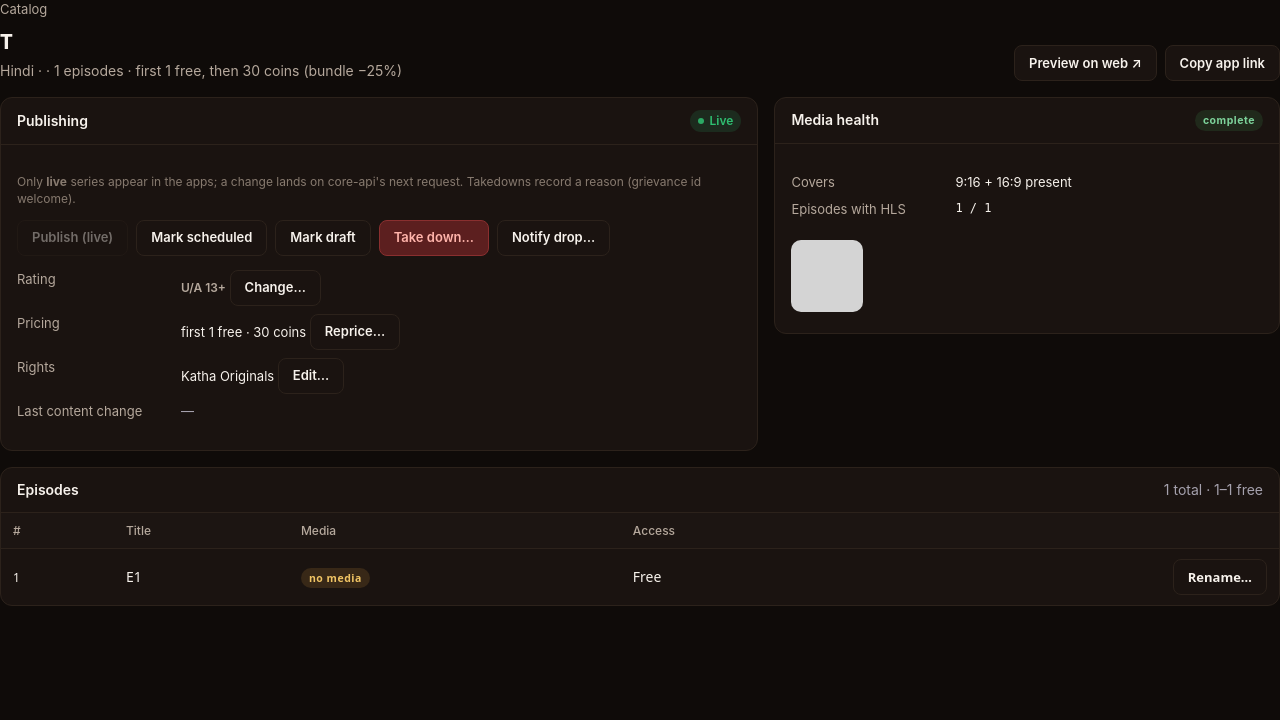
Test: final handler closures › CatalogDetail modals close on Escape
Click the button "Take down…" at (434,238), box [379,220,489,256]
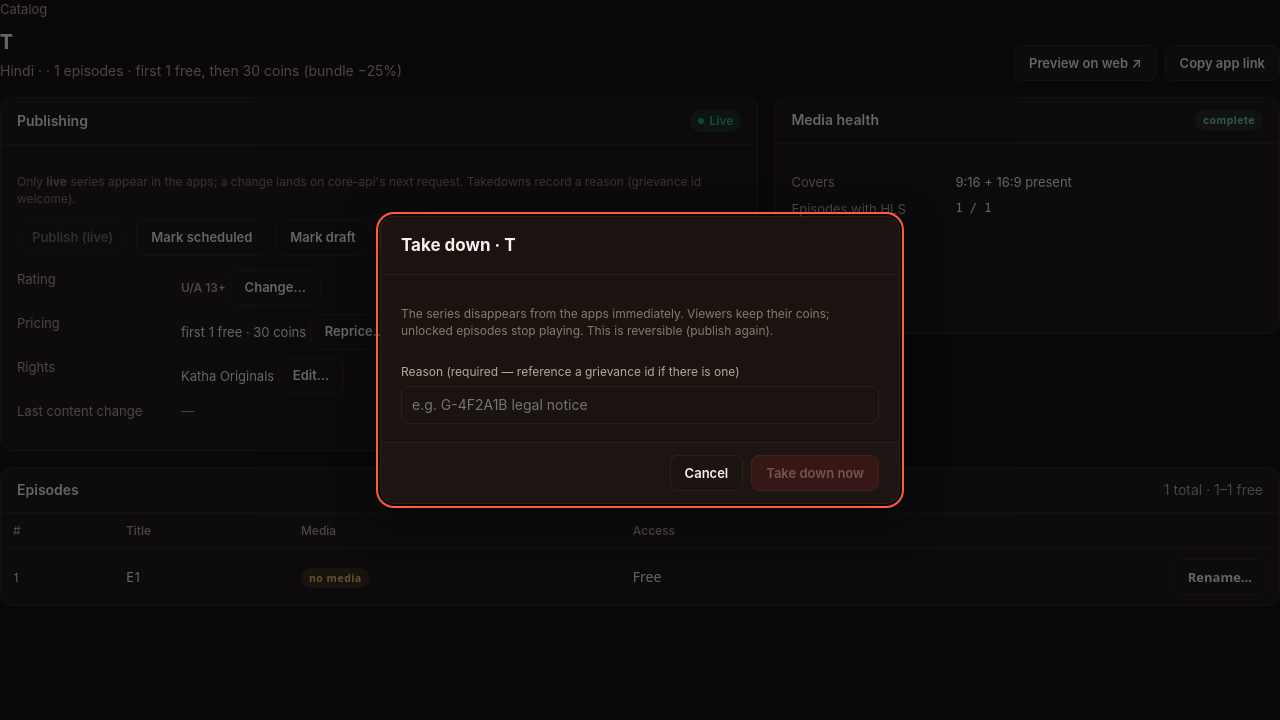
Check: the dialog is shown, box [380,216,900,504]
Press Escape
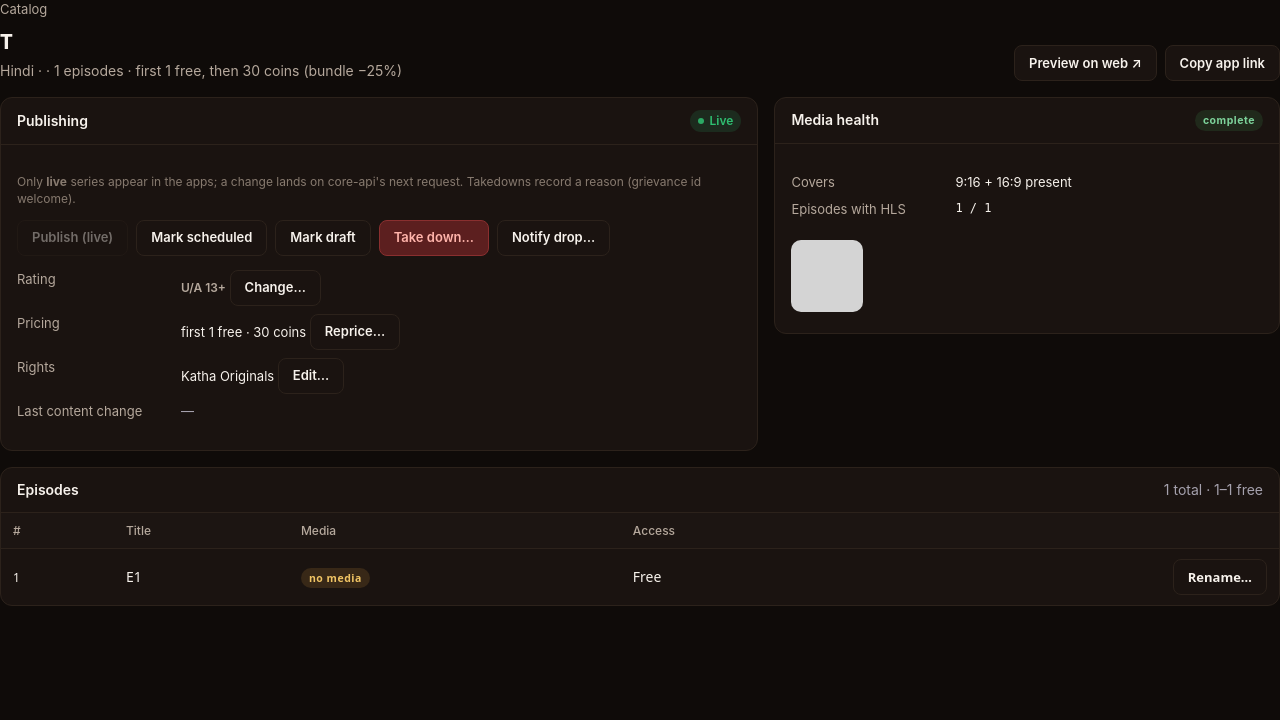
Check: the dialog is gone
Click the button "Change…" at (275,288), box [230,270,321,306]
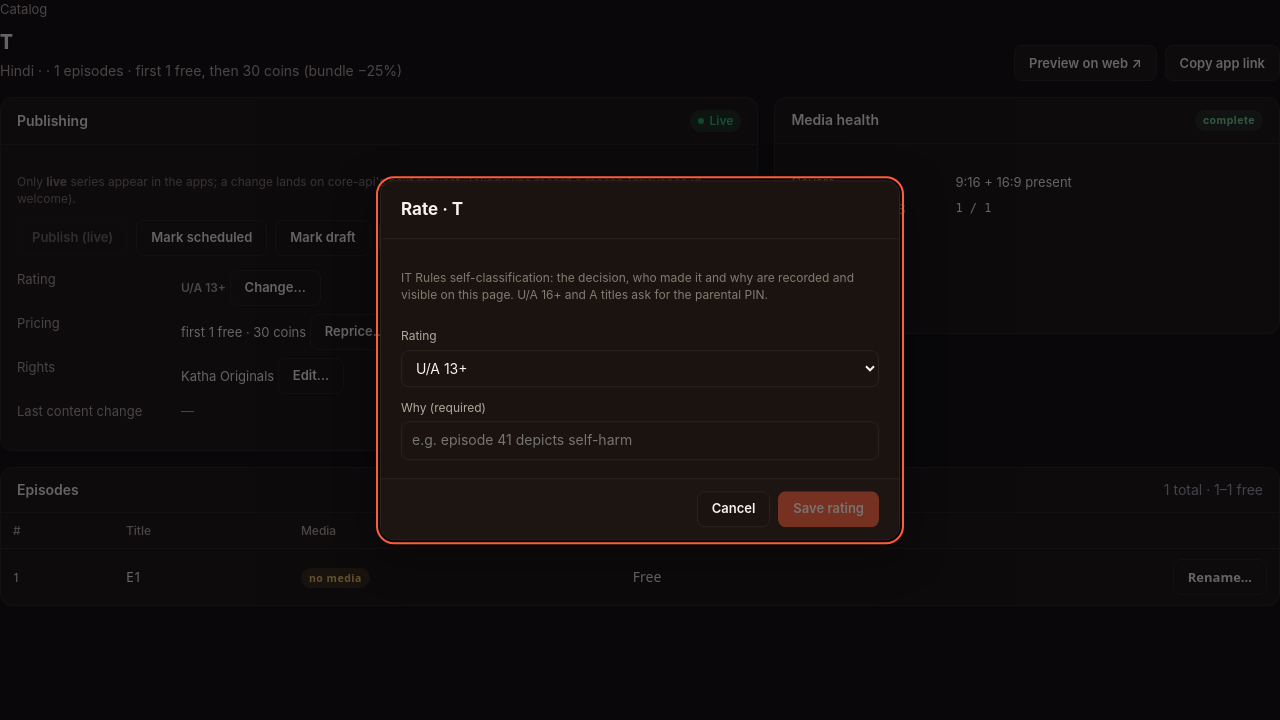
Check: the dialog is shown, box [380,180,900,540]
Press Escape
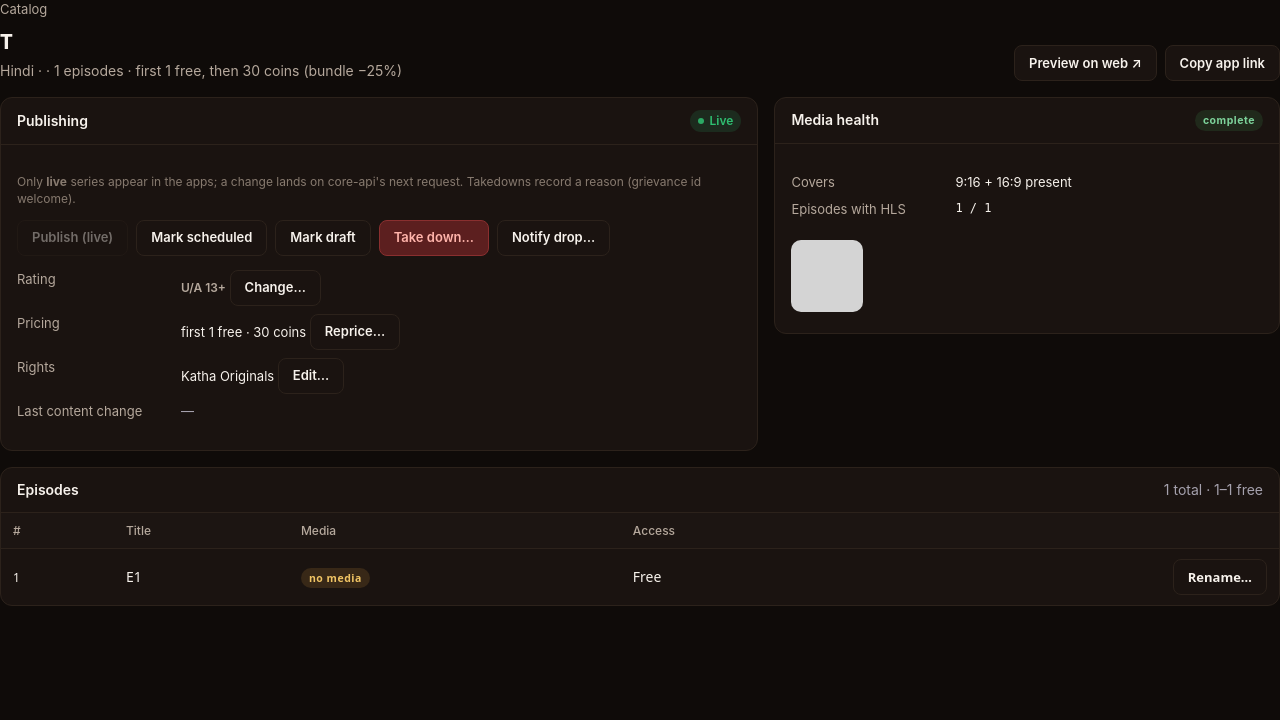
Check: the dialog is gone
